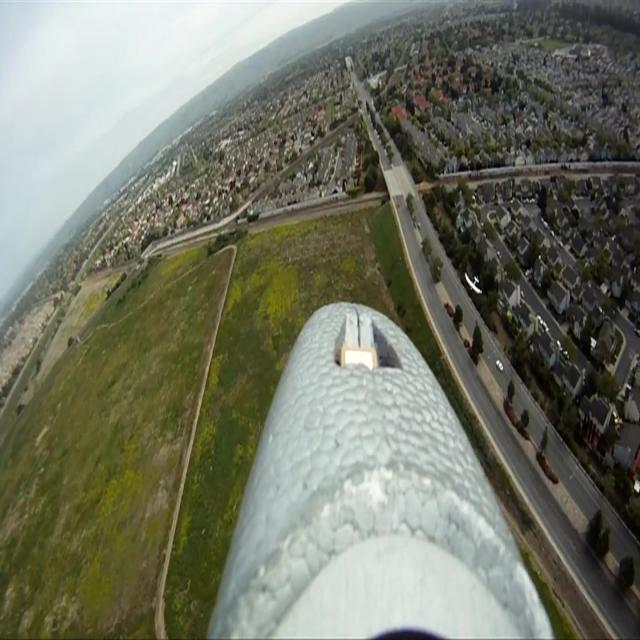iha: (465, 273, 482, 294)
